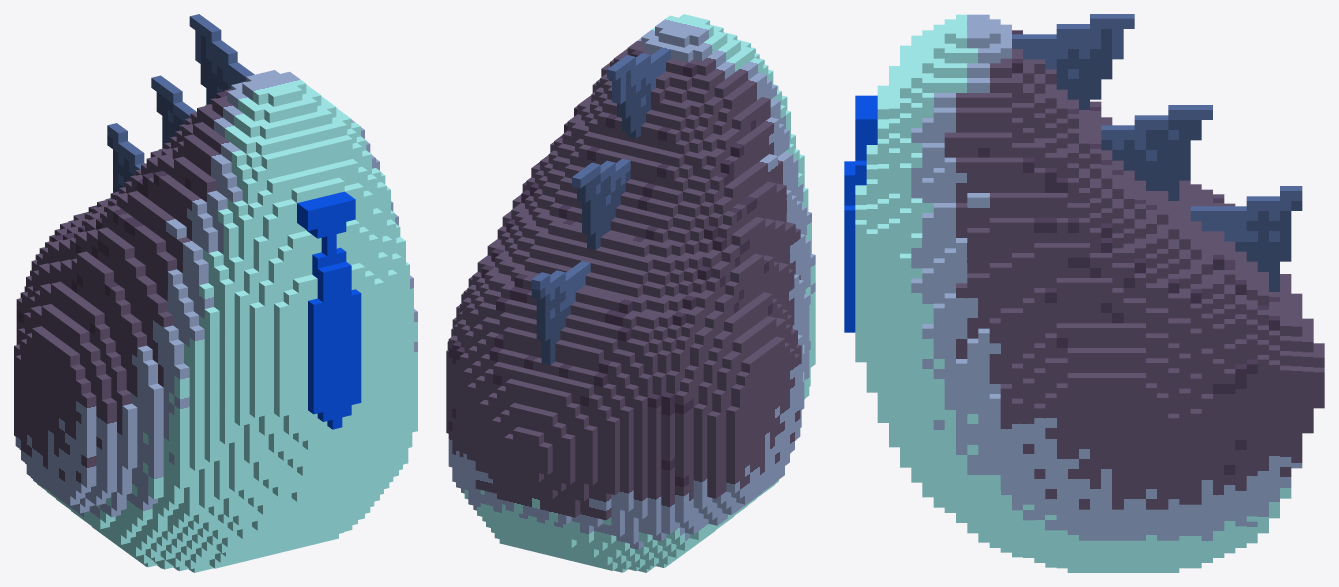
The model's file is blue tie.gltf.
3 views of the same model, side by side, from view 1: azimuth 30°, elevation 25°; view 2: azimuth 150°, elevation 25°; view 3: azimuth 270°, elevation 25° (orthographic). The views are drawn at different scales.
Visible parts, largest first — view 1: 04_Body_BlueTie-Mesh; view 2: 04_Body_BlueTie-Mesh; view 3: 04_Body_BlueTie-Mesh.
Part boxes in pixels (x1,y1,x2,y2): 04_Body_BlueTie-Mesh: (14, 14, 417, 572); 04_Body_BlueTie-Mesh: (446, 14, 815, 572); 04_Body_BlueTie-Mesh: (844, 14, 1324, 572).
Bounding box in the file's own units: 33 × 51 × 43.
1 material, 1 textured.
